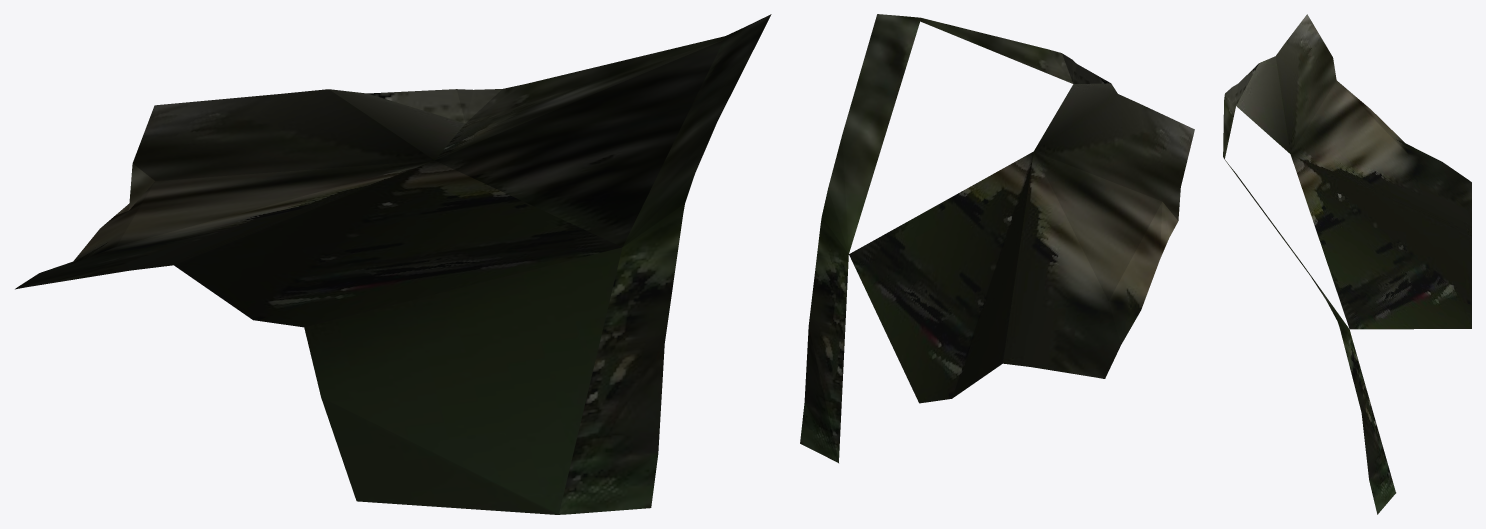
3 views of the same model, side by side, from view 1: azimuth 30°, elevation 25°; view 2: azimuth 150°, elevation 25°; view 3: azimuth 270°, elevation 25° (orthographic). The views are drawn at different scales.
Size of the model in its own units: 0.8373 by 0.8374 by 0.5527.
Materials: 3 (3 with a texture image).
